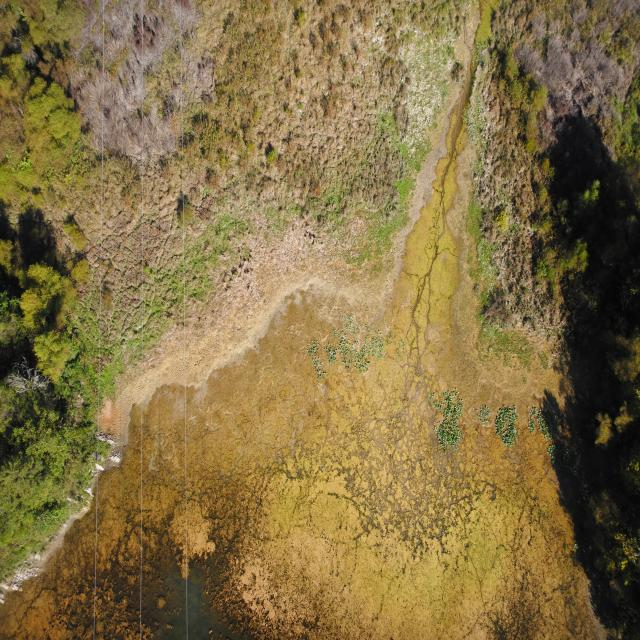Area of Interest: (13, 242, 96, 566)
